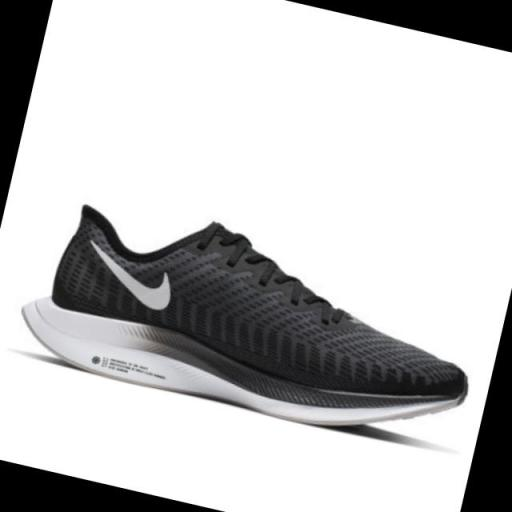Nike: (72, 237, 186, 316)
